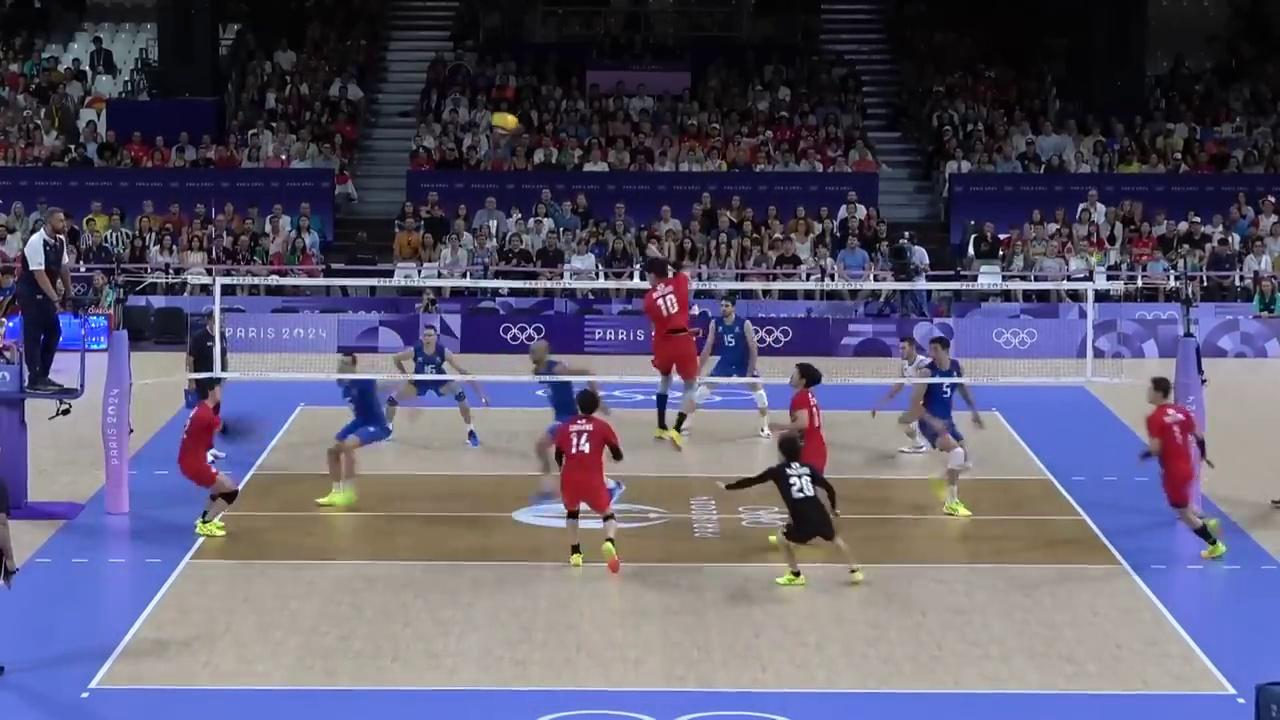ball: (491, 115, 518, 135)
